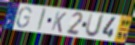2: (65, 12, 84, 36)
4: (100, 16, 116, 41)
G: (15, 6, 32, 29)
I: (36, 7, 48, 32)
K: (50, 10, 68, 34)
U: (84, 13, 106, 39)
